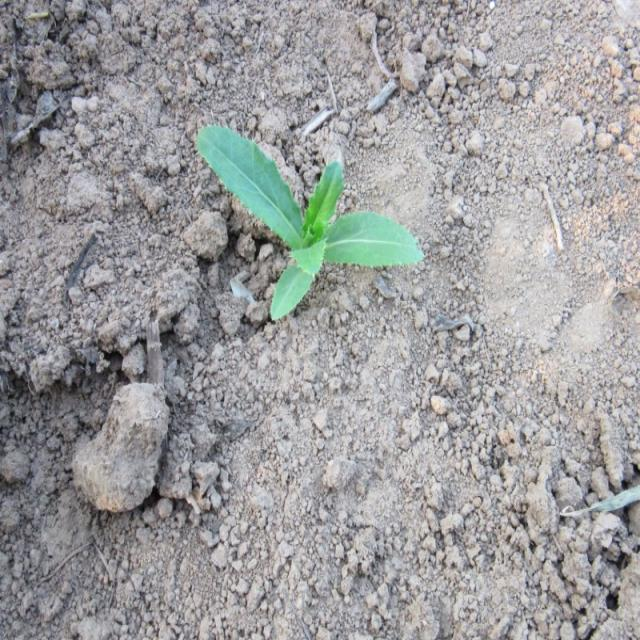cs: (195, 122, 427, 324)
